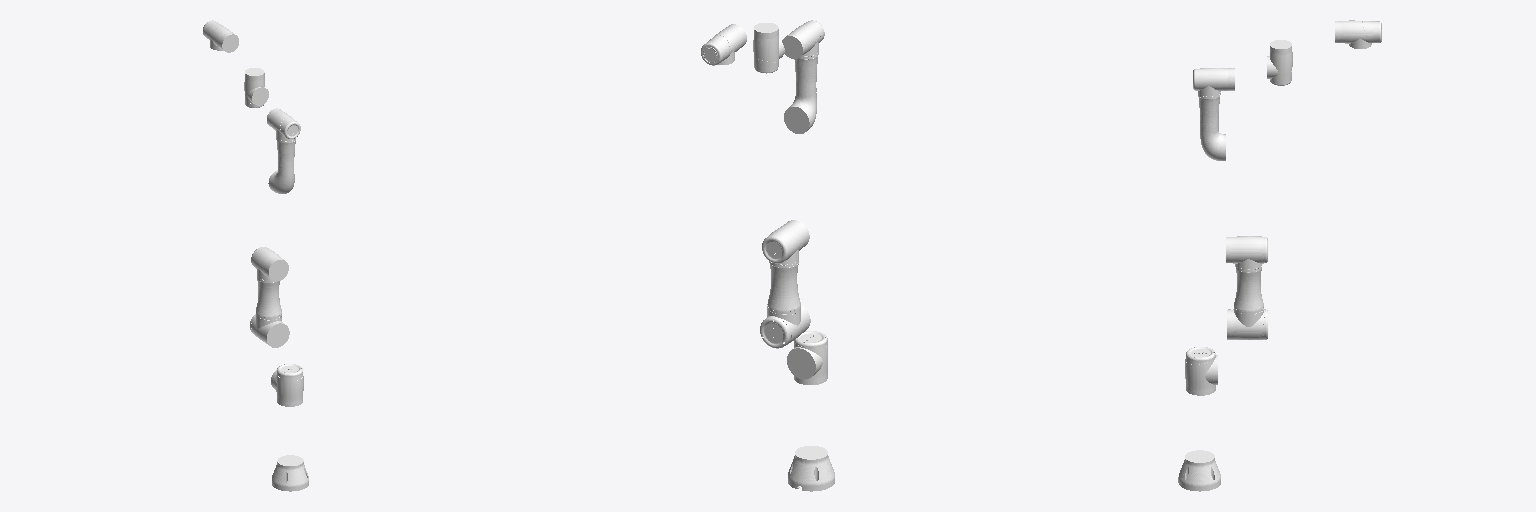
robot.urdf — hiwin_ra605_710_gb:
<?xml version="1.0" ?>
<!-- =================================================================================== -->
<!-- |    This document was autogenerated by xacro from ra605_710_gb.xacro             | -->
<!-- |    EDITING THIS FILE BY HAND IS NOT RECOMMENDED                                 | -->
<!-- =================================================================================== -->
<robot name="hiwin_ra605_710_gb">
  <!-- links: main serial chain -->
  <link name="base_link">
    <visual>
      <origin rpy="0 0 1.5707963267948966" xyz="0 0 0"/>
      <geometry>
        <mesh filename="package://hiwin_ra605_710_gb_support/meshes/visual/base_link.stl" scale="0.001 0.001 0.001"/>
      </geometry>
      <material name="LightGrey">
        <color rgba="0.999 0.999 0.999 1.0"/>
      </material>
    </visual>
    <collision>
      <origin rpy="0 0 1.5707963267948966" xyz="0 0 0"/>
      <geometry>
        <mesh filename="package://hiwin_ra605_710_gb_support/meshes/collision/base_link.stl" scale="0.001 0.001 0.001"/>
      </geometry>
    </collision>
  </link>
  <link name="link_1">
    <visual>
      <origin rpy="0 0 1.5707963267948966" xyz="0 0 0"/>
      <geometry>
        <mesh filename="package://hiwin_ra605_710_gb_support/meshes/visual/link_1.stl" scale="0.001 0.001 0.001"/>
      </geometry>
      <material name="LightGrey">
        <color rgba="0.999 0.999 0.999 1.0"/>
      </material>
    </visual>
    <collision>
      <origin rpy="0 0 1.5707963267948966" xyz="0 0 0"/>
      <geometry>
        <mesh filename="package://hiwin_ra605_710_gb_support/meshes/collision/link_1.stl" scale="0.001 0.001 0.001"/>
      </geometry>
    </collision>
  </link>
  <link name="link_2">
    <visual>
      <origin rpy="0 0 1.5707963267948966" xyz="0 0 0"/>
      <geometry>
        <mesh filename="package://hiwin_ra605_710_gb_support/meshes/visual/link_2.stl" scale="0.001 0.001 0.001"/>
      </geometry>
      <material name="LightGrey">
        <color rgba="0.999 0.999 0.999 1.0"/>
      </material>
    </visual>
    <collision>
      <origin rpy="0 0 1.5707963267948966" xyz="0 0 0"/>
      <geometry>
        <mesh filename="package://hiwin_ra605_710_gb_support/meshes/collision/link_2.stl" scale="0.001 0.001 0.001"/>
      </geometry>
    </collision>
  </link>
  <link name="link_3">
    <visual>
      <origin rpy="0 0 1.5707963267948966" xyz="0 0 0"/>
      <geometry>
        <mesh filename="package://hiwin_ra605_710_gb_support/meshes/visual/link_3.stl" scale="0.001 0.001 0.001"/>
      </geometry>
      <material name="LightGrey">
        <color rgba="0.999 0.999 0.999 1.0"/>
      </material>
    </visual>
    <collision>
      <origin rpy="0 0 1.5707963267948966" xyz="0 0 0"/>
      <geometry>
        <mesh filename="package://hiwin_ra605_710_gb_support/meshes/collision/link_3.stl" scale="0.001 0.001 0.001"/>
      </geometry>
    </collision>
  </link>
  <link name="link_4">
    <visual>
      <origin rpy="0 0 1.5707963267948966" xyz="0 0 0"/>
      <geometry>
        <mesh filename="package://hiwin_ra605_710_gb_support/meshes/visual/link_4.stl" scale="0.001 0.001 0.001"/>
      </geometry>
      <material name="LightGrey">
        <color rgba="0.999 0.999 0.999 1.0"/>
      </material>
    </visual>
    <collision>
      <origin rpy="0 0 1.5707963267948966" xyz="0 0 0"/>
      <geometry>
        <mesh filename="package://hiwin_ra605_710_gb_support/meshes/collision/link_4.stl" scale="0.001 0.001 0.001"/>
      </geometry>
    </collision>
  </link>
  <link name="link_5">
    <visual>
      <origin rpy="0 0 1.5707963267948966" xyz="0 0 0"/>
      <geometry>
        <mesh filename="package://hiwin_ra605_710_gb_support/meshes/visual/link_5.stl" scale="0.001 0.001 0.001"/>
      </geometry>
      <material name="LightGrey">
        <color rgba="0.999 0.999 0.999 1.0"/>
      </material>
    </visual>
    <collision>
      <origin rpy="0 0 1.5707963267948966" xyz="0 0 0"/>
      <geometry>
        <mesh filename="package://hiwin_ra605_710_gb_support/meshes/collision/link_5.stl" scale="0.001 0.001 0.001"/>
      </geometry>
    </collision>
  </link>
  <link name="link_6">
    <visual>
      <origin rpy="0 0 1.5707963267948966" xyz="0 0 0"/>
      <geometry>
        <mesh filename="package://hiwin_ra605_710_gb_support/meshes/visual/link_6.stl" scale="0.001 0.001 0.001"/>
      </geometry>
      <material name="LightGrey">
        <color rgba="0.999 0.999 0.999 1.0"/>
      </material>
    </visual>
    <collision>
      <origin rpy="0 0 1.5707963267948966" xyz="0 0 0"/>
      <geometry>
        <mesh filename="package://hiwin_ra605_710_gb_support/meshes/collision/link_6.stl" scale="0.001 0.001 0.001"/>
      </geometry>
    </collision>
  </link>
  <!-- joints: main serial chain -->
  <joint name="joint_1" type="revolute">
    <origin rpy="0.0 0.0 0.0" xyz="0.0 0.003 0.224"/>
    <parent link="base_link"/>
    <child link="link_1"/>
    <axis xyz="0 0 1"/>
    <limit effort="0" lower="-2.8792" upper="2.8792" velocity="2.618"/>
  </joint>
  <joint name="joint_2" type="revolute">
    <origin rpy="0.0 0.0 0.0" xyz="0.0 0.03 0.151"/>
    <parent link="link_1"/>
    <child link="link_2"/>
    <axis xyz="1 0 0"/>
    <limit effort="0" lower="-2.1812" upper="1.4832" velocity="2.618"/>
  </joint>
  <joint name="joint_3" type="revolute">
    <origin rpy="0.0 0.0 0.0" xyz="0.0 0.000225 0.340"/>
    <parent link="link_2"/>
    <child link="link_3"/>
    <axis xyz="1 0 0"/>
    <limit effort="0" lower="-0.9597" upper="3.2282" velocity="2.618"/>
  </joint>
  <joint name="joint_4" type="revolute">
    <origin rpy="0.0 0.0 0.0" xyz="0.0 0.099 0.0398"/>
    <parent link="link_3"/>
    <child link="link_4"/>
    <axis xyz="0 1 0"/>
    <limit effort="0" lower="-3.3155" upper="3.3155" velocity="2.618"/>
  </joint>
  <joint name="joint_5" type="revolute">
    <origin rpy="0.0 0.0 0.0" xyz="0.0 0.239 0.0002"/>
    <parent link="link_4"/>
    <child link="link_5"/>
    <axis xyz="1 0 0"/>
    <limit effort="0" lower="-2.0067" upper="2.0067" velocity="2.618"/>
  </joint>
  <joint name="joint_6" type="revolute">
    <origin rpy="0.0 0.0 0.0" xyz="0.0 0.06741 0.0"/>
    <parent link="link_5"/>
    <child link="link_6"/>
    <axis xyz="0 1 0"/>
    <limit effort="0" lower="-3.1415" upper="3.1415" velocity="2.618"/>
  </joint>
  <!-- ROS-Industrial 'base' frame: base_link to HIWIN World Coordinates transform -->
  <link name="base"/>
  <joint name="base_link-base" type="fixed">
    <origin rpy="0 0 0" xyz="0.000076 0.003189 0.375960"/>
    <parent link="base_link"/>
    <child link="base"/>
  </joint>
  <!-- ROS-Industrial 'flange' frame: attachment point for EEF models -->
  <link name="flange"/>
  <joint name="joint_6-flange" type="fixed">
    <origin rpy="0 0 0" xyz="0 0 0"/>
    <parent link="link_6"/>
    <child link="flange"/>
  </joint>
  <!-- ROS-Industrial 'tool0' frame: all-zeros tool frame -->
  <link name="tool0"/>
  <joint name="link_6-tool0" type="fixed">
    <origin rpy="0.0 -1.5707963267948966 -1.5707963267948966" xyz="0 0.1215 0.0"/>
    <parent link="link_6"/>
    <child link="tool0"/>
  </joint>
</robot>

--- Facts derived from the render (not from the file) ---
The picture shows the robot from 3 angles, left to right: view 1: azimuth 30°, elevation 25°; view 2: azimuth 150°, elevation 25°; view 3: azimuth 270°, elevation 25°; orthographic projection.
Robot: hiwin_ra605_710_gb — 10 links, 9 joints (6 revolute, 3 fixed); root link base_link; default pose: all joints at 0.
Links seen in each view (by area): view 1: link_2, link_3, link_1, base_link, link_4, link_5; view 2: link_2, link_3, link_1, base_link, link_4, link_5; view 3: link_2, link_3, link_1, base_link, link_5, link_4.
Link boxes in pixels (<box>): link_2: <box>250,247,289,347</box>; link_3: <box>267,108,300,193</box>; link_1: <box>271,364,303,406</box>; base_link: <box>272,455,308,491</box>; link_4: <box>244,68,268,107</box>; link_5: <box>203,20,238,52</box>; link_2: <box>760,220,810,348</box>; link_3: <box>782,20,824,133</box>; link_1: <box>787,331,827,384</box>; base_link: <box>788,446,834,491</box>; link_4: <box>753,23,784,73</box>; link_5: <box>701,24,746,65</box>; link_2: <box>1226,236,1267,339</box>; link_3: <box>1193,68,1234,160</box>; link_1: <box>1185,347,1217,395</box>; base_link: <box>1178,450,1220,491</box>; link_5: <box>1335,20,1381,48</box>; link_4: <box>1267,40,1292,85</box>.
Bounding box of the posed robot: 0.129 × 0.6127 × 1.53 m (x, y, z).
7 mesh visuals loaded from 7 distinct referenced files (7 binary STL).